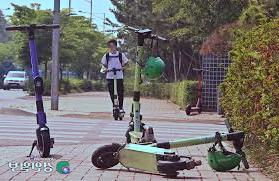nonhelmet: (99, 38, 130, 123)
